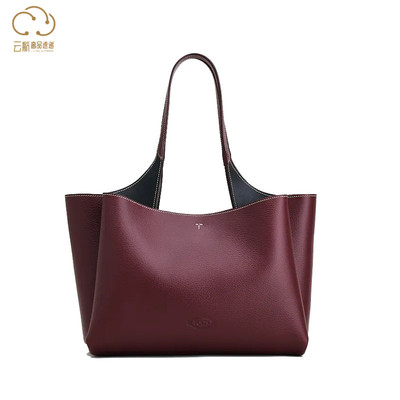cartera: (59, 51, 336, 364)
cuero: (120, 245, 285, 328)
